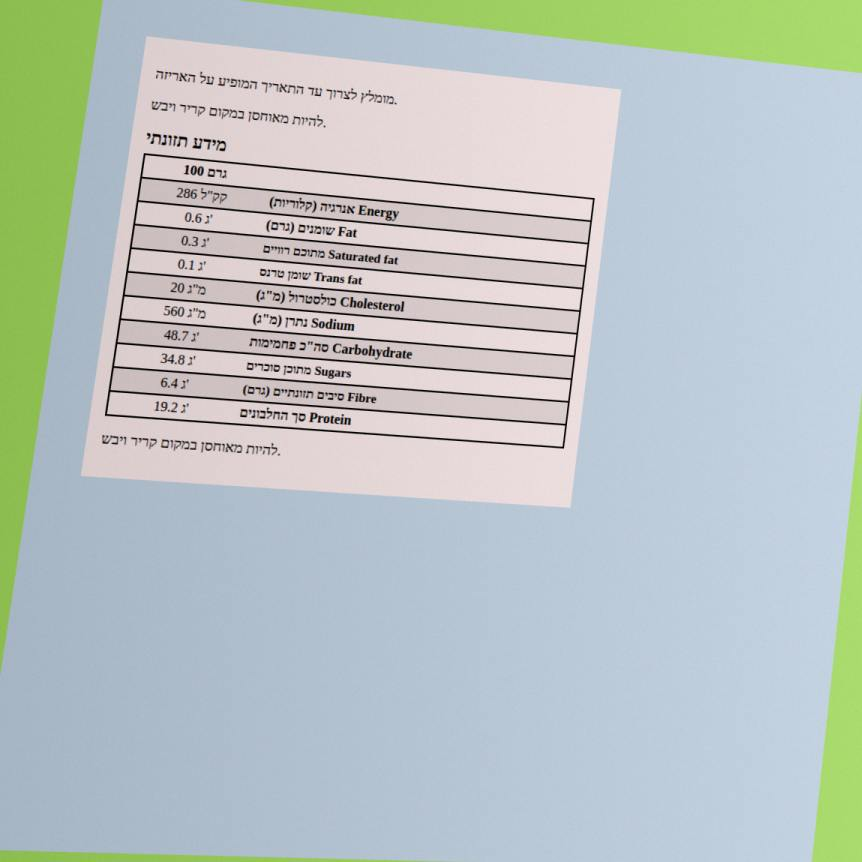carbs: (161, 325, 202, 346)
energy: (173, 183, 230, 207)
fat: (182, 208, 215, 229)
protein: (151, 397, 192, 418)
